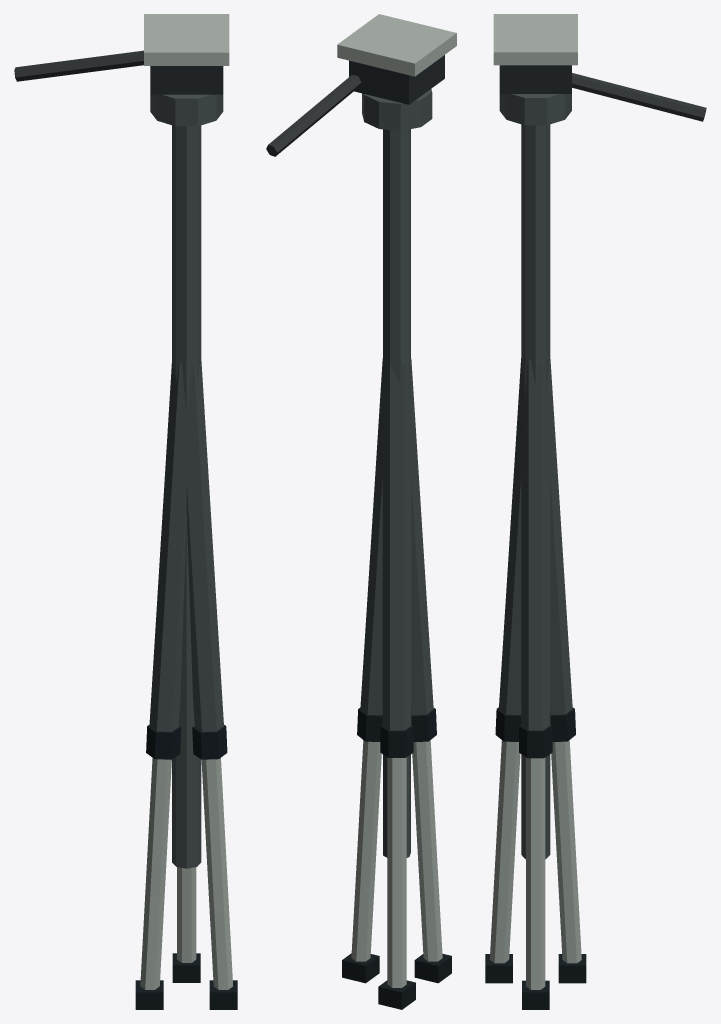
Rendered from blender_tripod_2_folded.glb.
The picture shows the model from 3 angles, left to right: view 1: azimuth 90°, elevation 25°; view 2: azimuth 150°, elevation 25°; view 3: azimuth 270°, elevation 25°; orthographic projection.
Parts seen in each view (by area): view 1: blender_tripod_2_folded; view 2: blender_tripod_2_folded; view 3: blender_tripod_2_folded.
Boxes of the visible parts, box(x1,y1,x2,y2) form: blender_tripod_2_folded: box(14, 14, 237, 1009); blender_tripod_2_folded: box(266, 14, 456, 1009); blender_tripod_2_folded: box(485, 14, 706, 1009).
Bounding box in the file's own units: 0.084 × 0.871 × 0.1833.
Materials: 1 (1 with a texture image).
